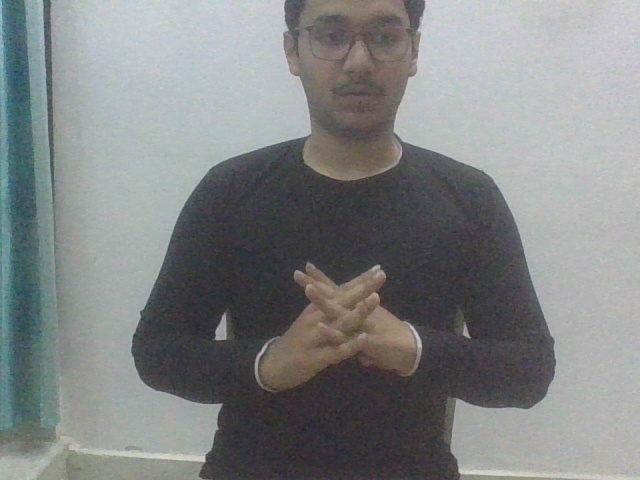W: (258, 255, 422, 400)
